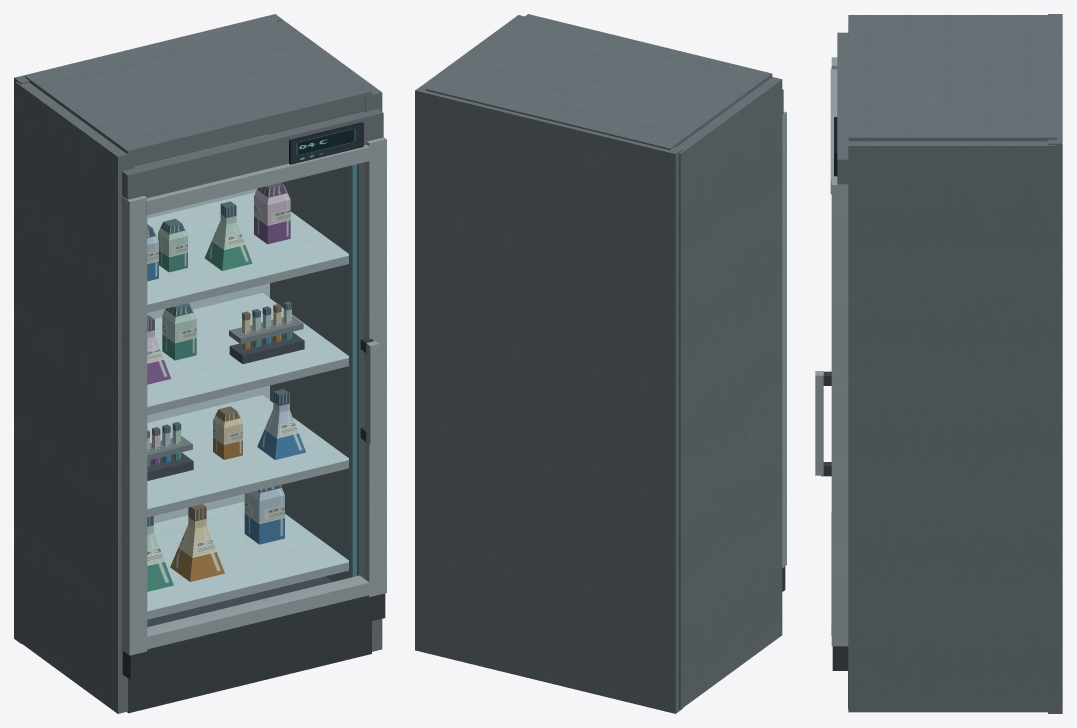
The model's file is Laboratory_Fridge.glb.
3 views of the same model, side by side, from view 1: azimuth 30°, elevation 25°; view 2: azimuth 150°, elevation 25°; view 3: azimuth 270°, elevation 25° (orthographic).
Parts seen in each view (by area): view 1: Fridge_Cabinet_and_Labware; view 2: Fridge_Cabinet_and_Labware; view 3: Fridge_Cabinet_and_Labware.
Boxes of the visible parts, <box> form: Fridge_Cabinet_and_Labware: <box>14,14,386,713</box>; Fridge_Cabinet_and_Labware: <box>415,14,786,713</box>; Fridge_Cabinet_and_Labware: <box>815,14,1062,713</box>.
Size of the model in its own units: 0.967 by 1.97 by 0.77.
2 materials, 1 textured.
